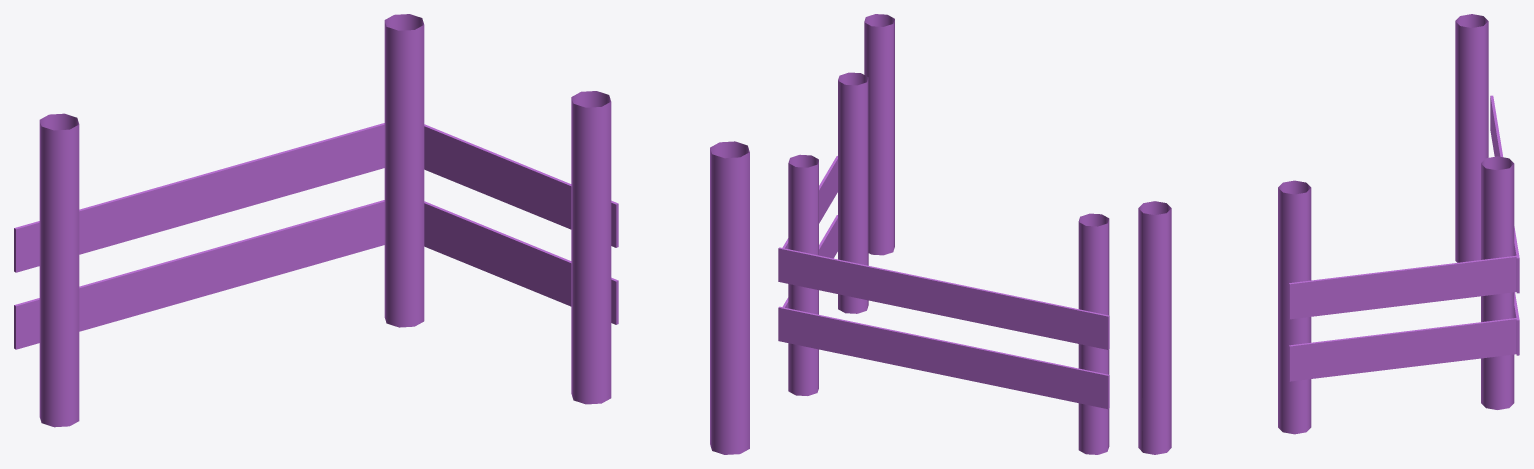
The model's file is Mono Winch Barrier.fbx.
The picture shows the model from 3 angles, left to right: view 1: azimuth 30°, elevation 25°; view 2: azimuth 150°, elevation 25°; view 3: azimuth 270°, elevation 25°; orthographic projection. The views are drawn at different scales.
Visible parts, largest first — view 1: Cylinder.081; view 2: Cylinder.081; view 3: Cylinder.081.
Part boxes in pixels (x1,y1,x2,y2): Cylinder.081: (14, 14, 749, 454); Cylinder.081: (778, 14, 1109, 454); Cylinder.081: (1138, 14, 1519, 454).
Size of the model in its own units: 284 by 153 by 221.
